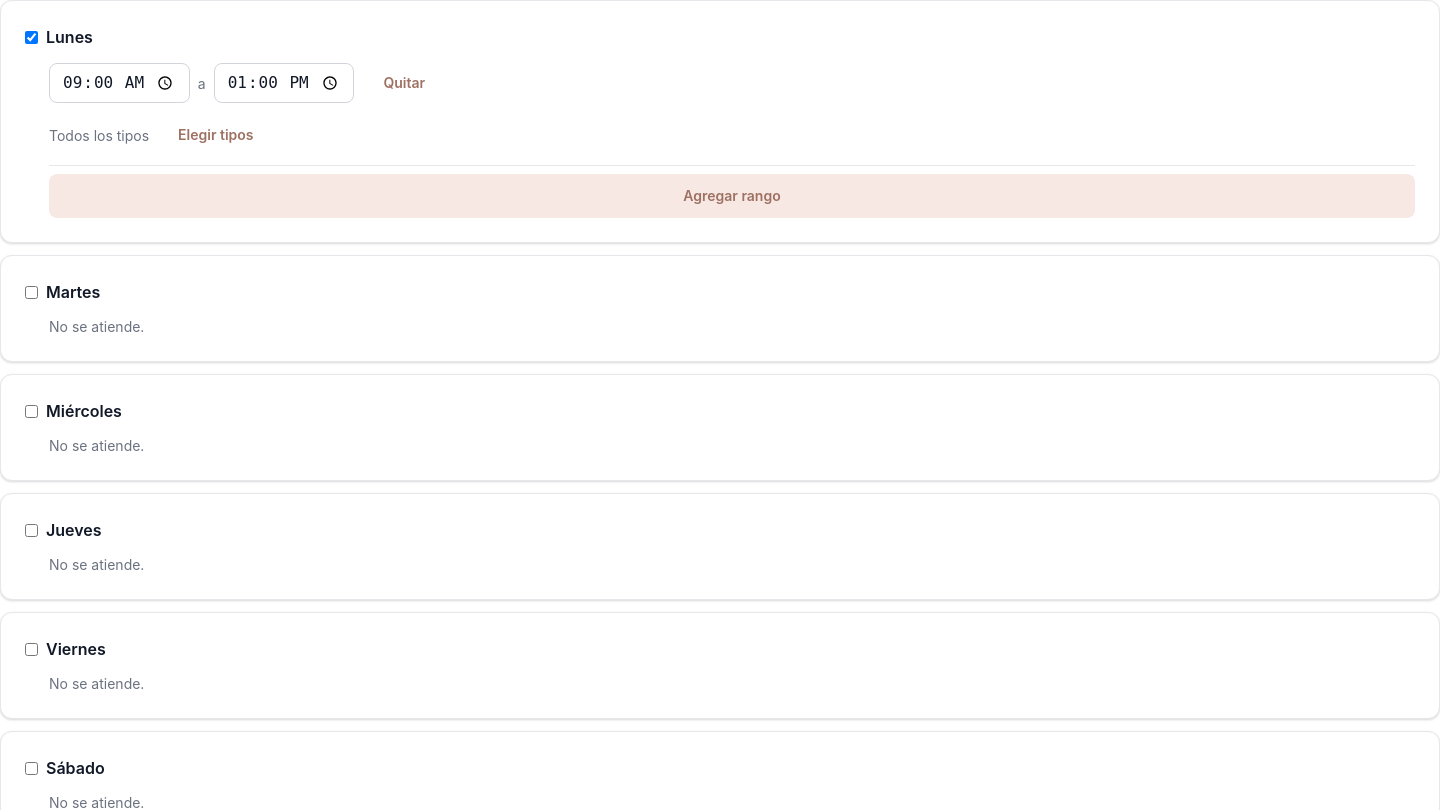
ScheduleEditor › Visit Kinds per range › toggles a whole group, showing it as partly ticked in between
Step 1. Click the button "Elegir tipos" → click(216, 135), box [157,113,275,157]
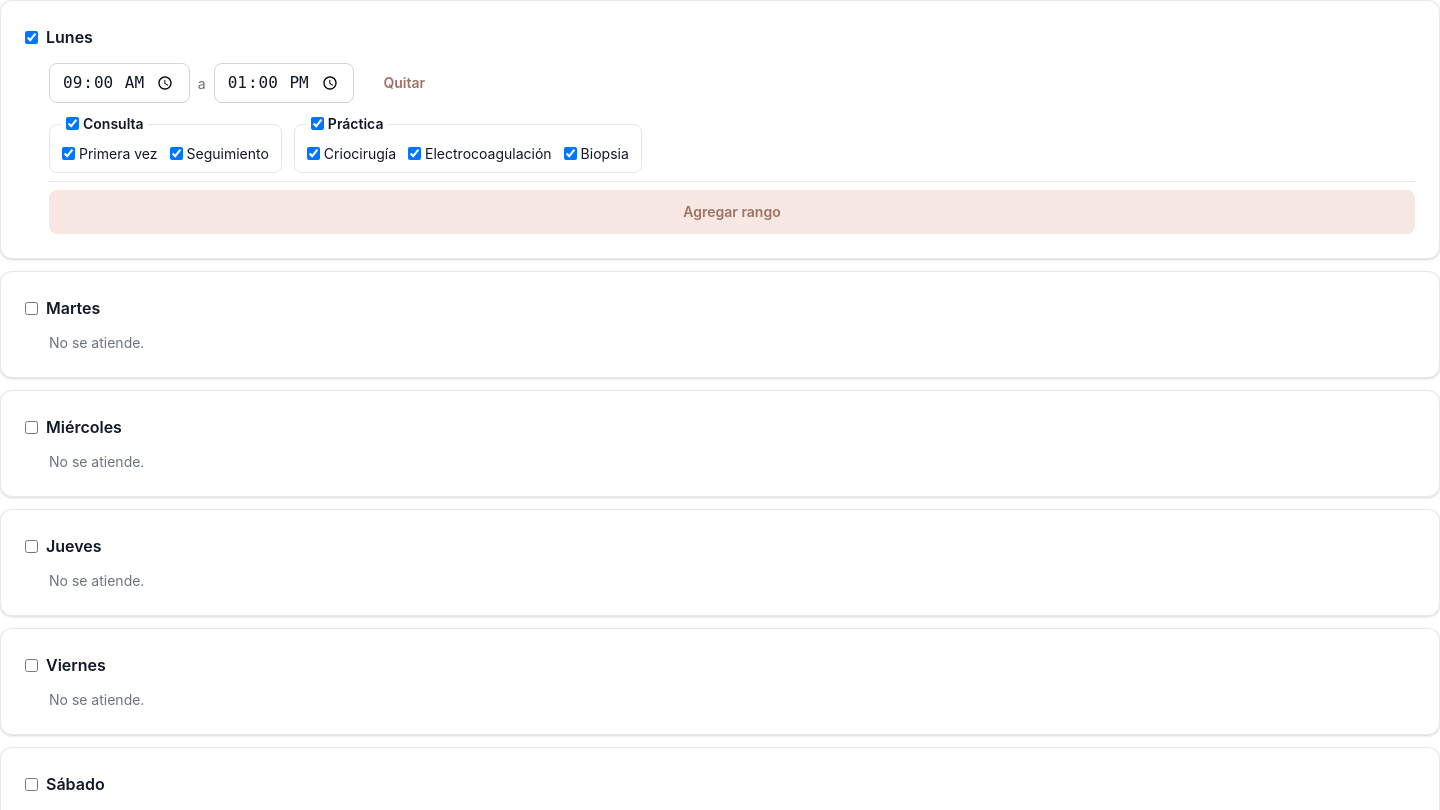
Step 2. Click the checkbox labelled "Práctica" → click(317, 124), box [311,117,324,130]
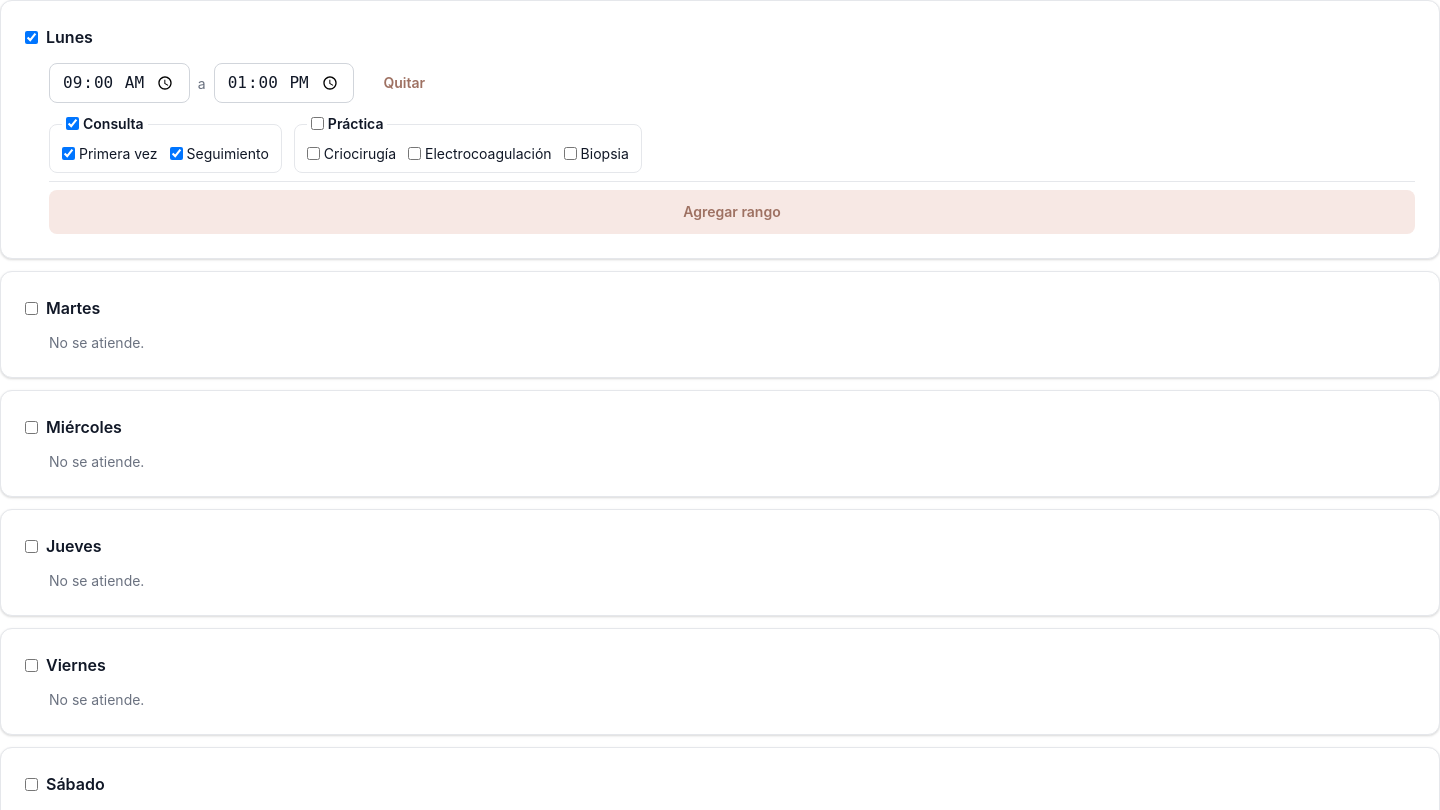
expect the checkbox labelled "Biopsia" is not checked: met
Step 3. Click the checkbox labelled "Biopsia" → click(570, 154), box [564,147,577,160]
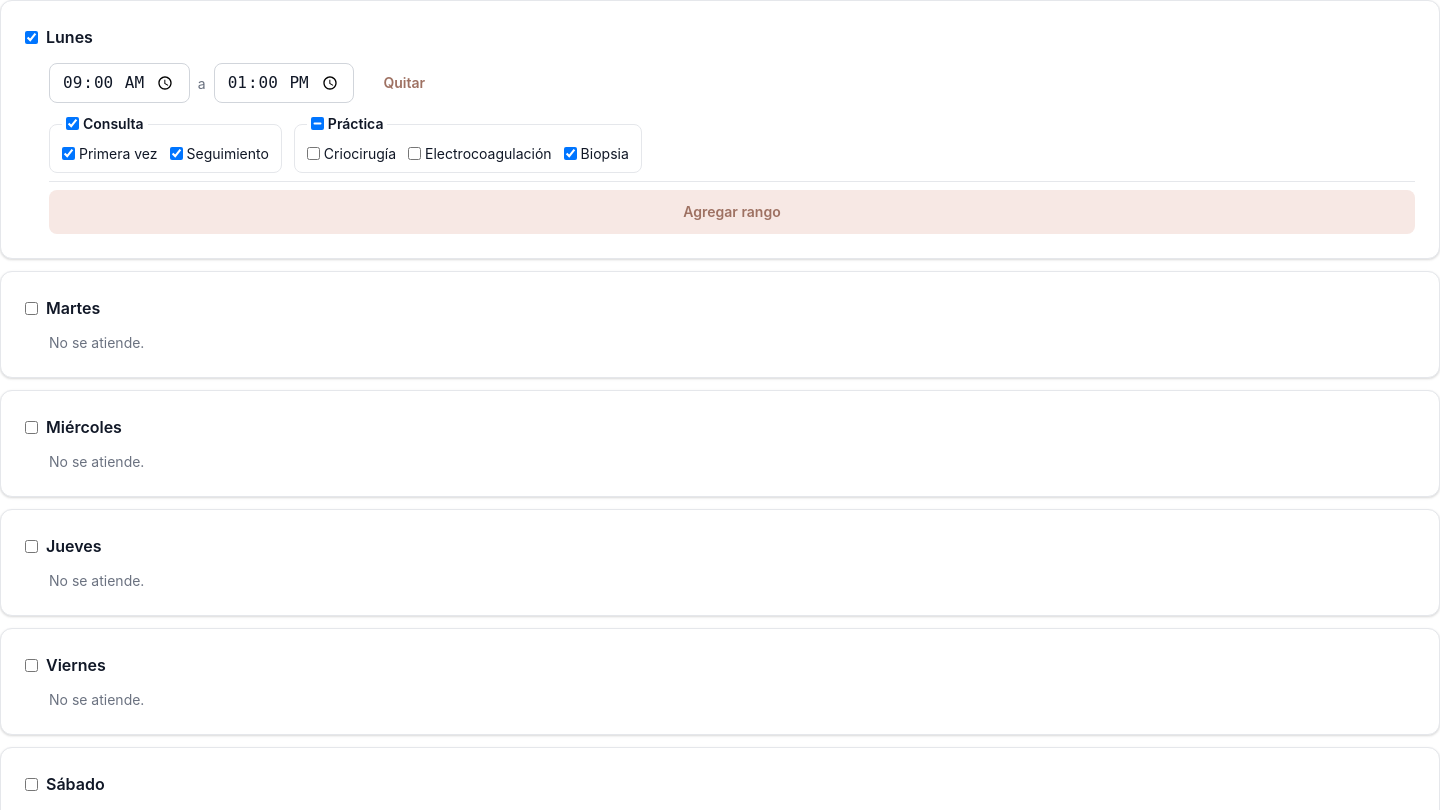
Step 4. Click the checkbox labelled "Práctica" → click(317, 124), box [311,117,324,130]
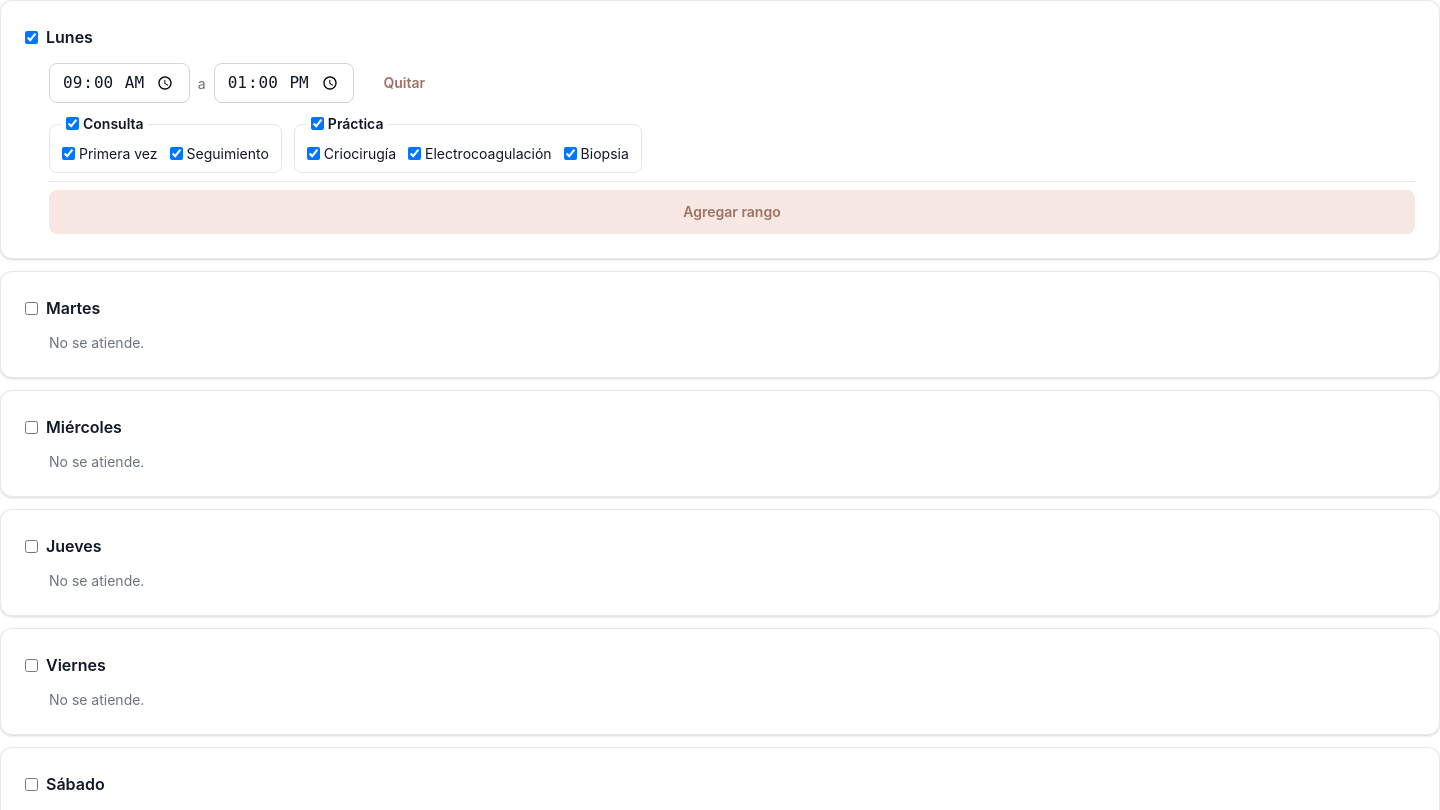
expect the checkbox labelled "Práctica" is checked: met, box [311,117,324,130]
expect the checkbox labelled "Criocirugía" is checked: met, box [307,147,320,160]
